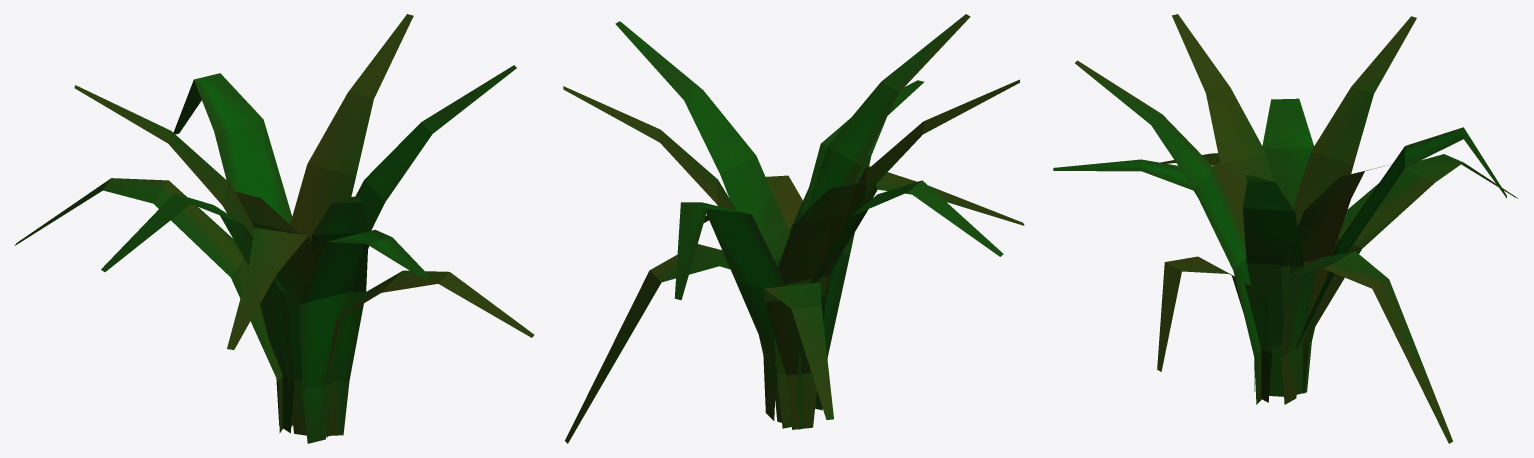
The model's file is grass.obj.
3 renders of one model, left to right at view 1: azimuth 30°, elevation 25°; view 2: azimuth 150°, elevation 25°; view 3: azimuth 270°, elevation 25°, orthographic. The views are drawn at different scales.
Parts seen in each view (by area): view 1: Plane; view 2: Plane; view 3: Plane.
Boxes of the visible parts, box(x1,y1,x2,y2) form: Plane: box(15, 14, 534, 443); Plane: box(563, 14, 1024, 443); Plane: box(1053, 14, 1518, 443).
Bounding box in the file's own units: 2.92 × 2.33 × 3.22.
Materials: 1 (1 with a texture image).
